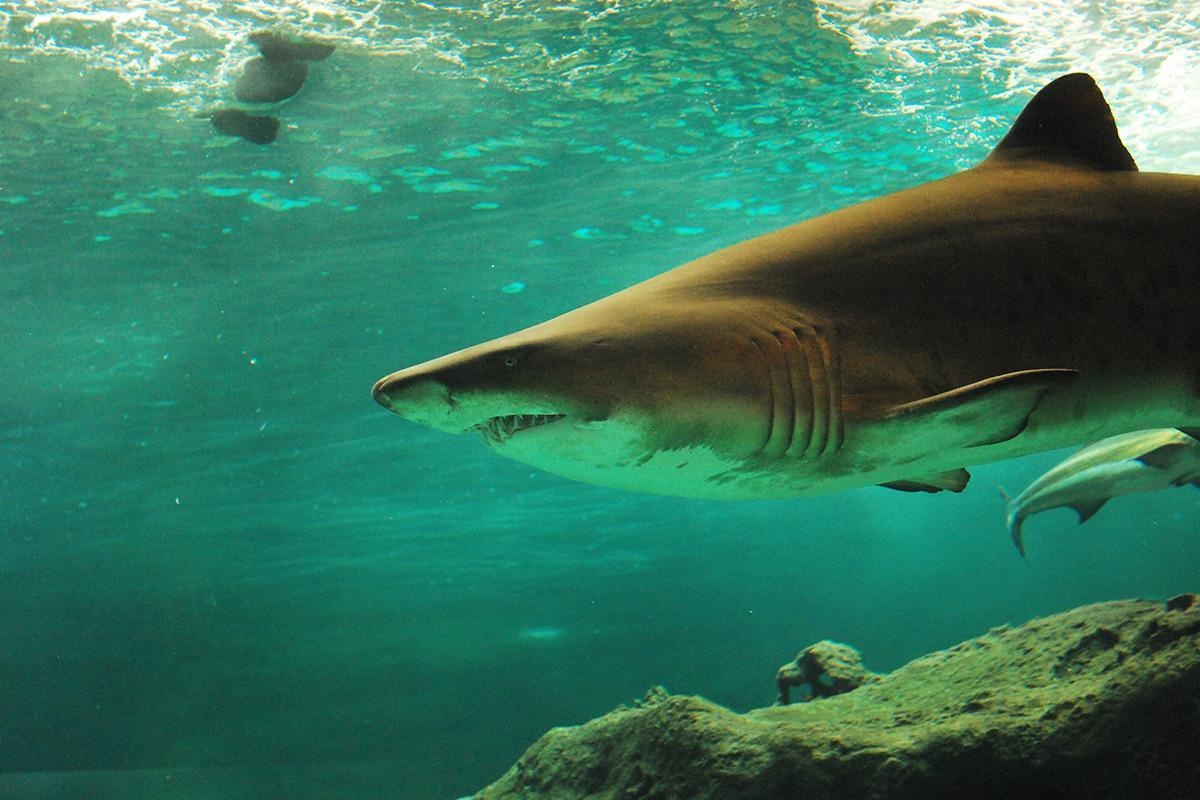fish: (353, 74, 1200, 531)
